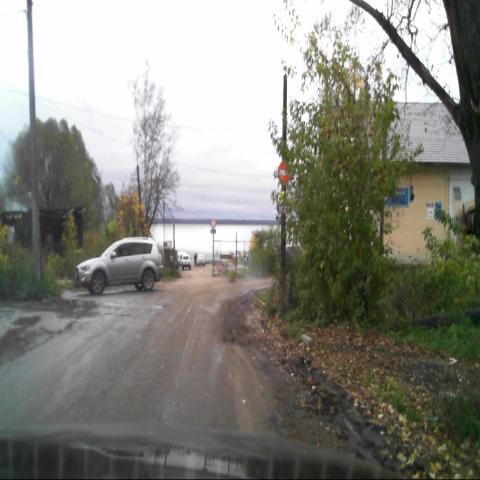3_1: (278, 158, 290, 183)
